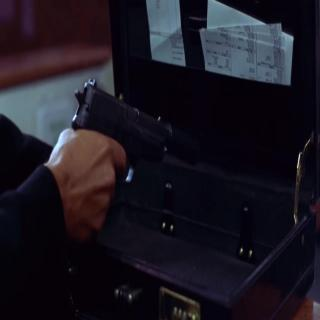gun: (69, 72, 204, 262)
